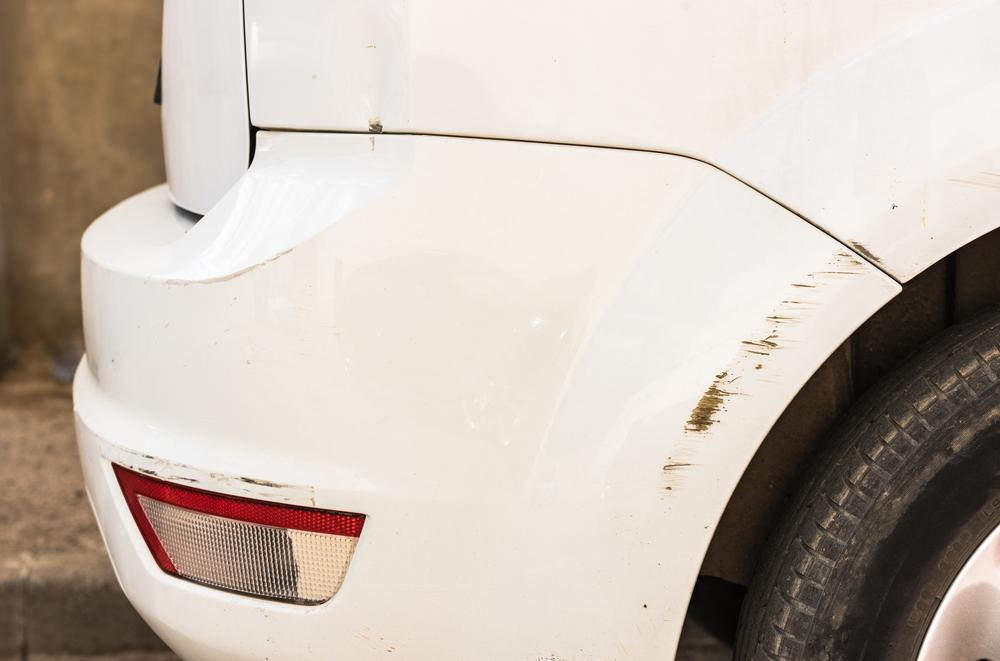scratch: (662, 242, 880, 497)
